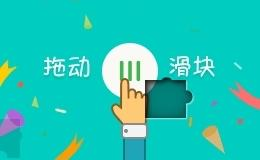target: (124, 61, 166, 99)
